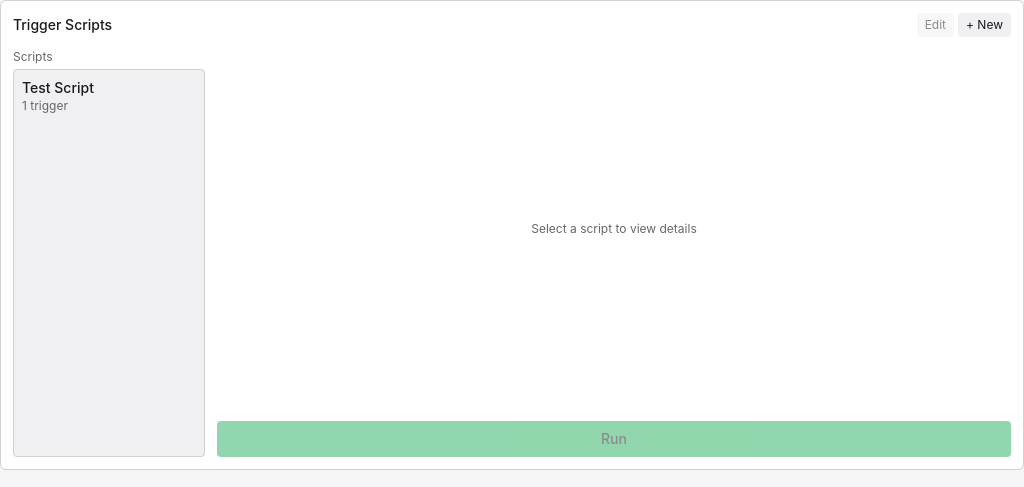
Scenario: TriggerScriptPanel › Edit Mode › should cancel editing when Cancel is clicked
The image size is (1024, 487).
Click the text "Test Script": x=58, y=88 left=22, top=79, right=94, bottom=96
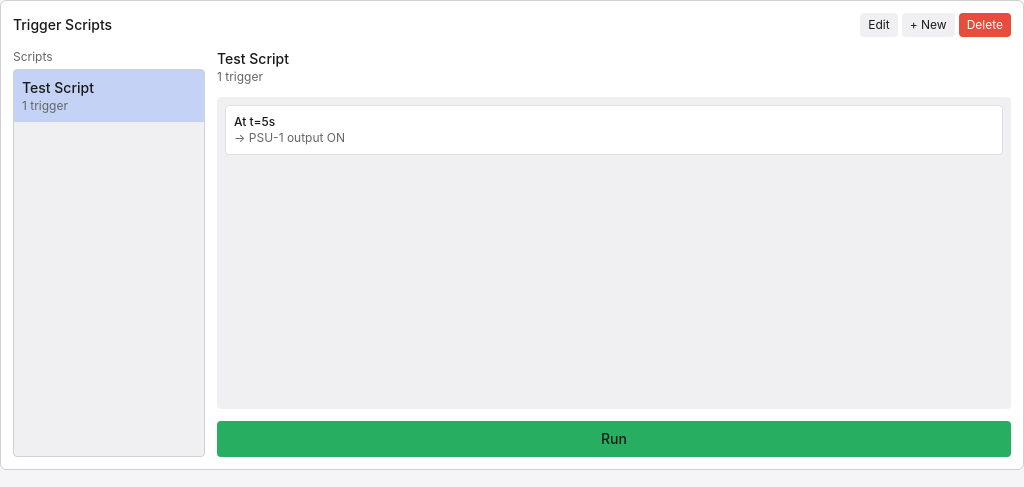
Click the button "Edit": x=879, y=25 left=860, top=13, right=898, bottom=37
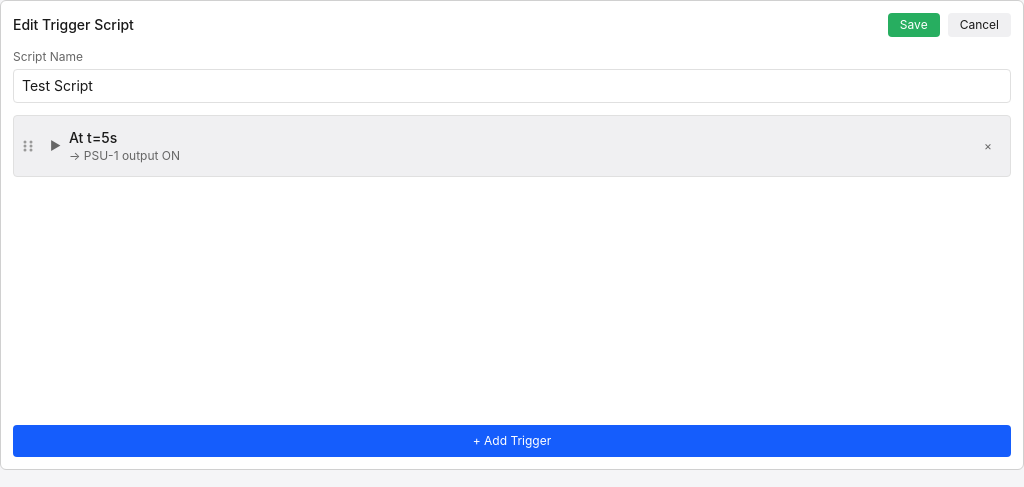
expect the heading "Edit Trigger Script" is shown: met, box left=13, top=15, right=134, bottom=35
Click the button "Cancel": x=979, y=25 left=948, top=13, right=1011, bottom=37
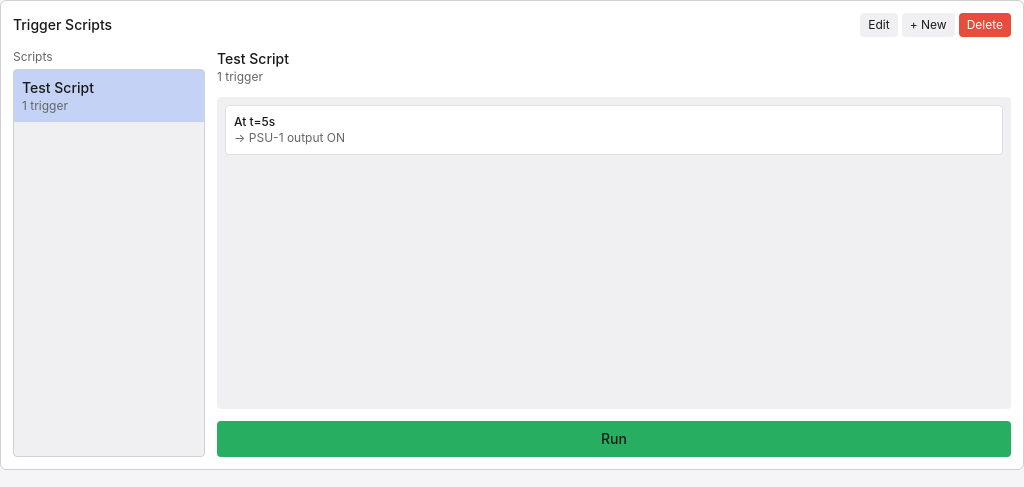
expect the heading "Trigger Scripts" is shown: met, box left=13, top=15, right=112, bottom=35
